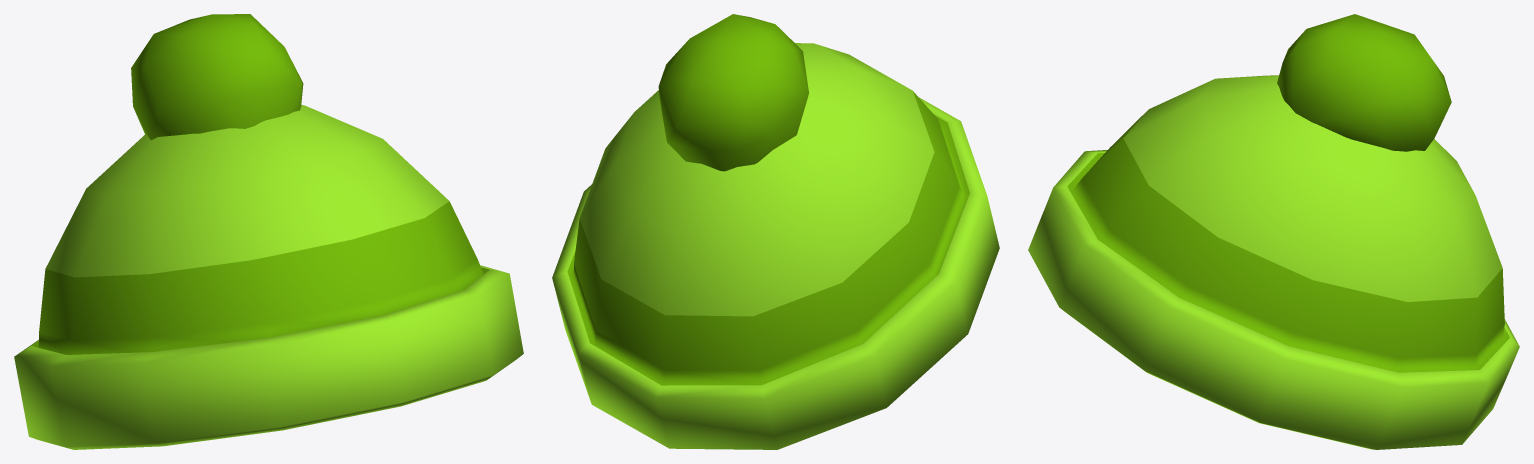
Rendered from Hat_Shapka.fbx.
3 renders of one model, left to right at view 1: azimuth 30°, elevation 25°; view 2: azimuth 150°, elevation 25°; view 3: azimuth 270°, elevation 25°, orthographic. The views are drawn at different scales.
Visible parts, largest first — view 1: Hat_Shapka.001; view 2: Hat_Shapka.001; view 3: Hat_Shapka.001.
Part boxes in pixels (left/top/right/bottom): Hat_Shapka.001: left=14, top=14, right=523, bottom=449; Hat_Shapka.001: left=552, top=14, right=999, bottom=449; Hat_Shapka.001: left=1028, top=14, right=1519, bottom=449.
Bounding box in the file's own units: 32.5 × 31.29 × 36.18.
